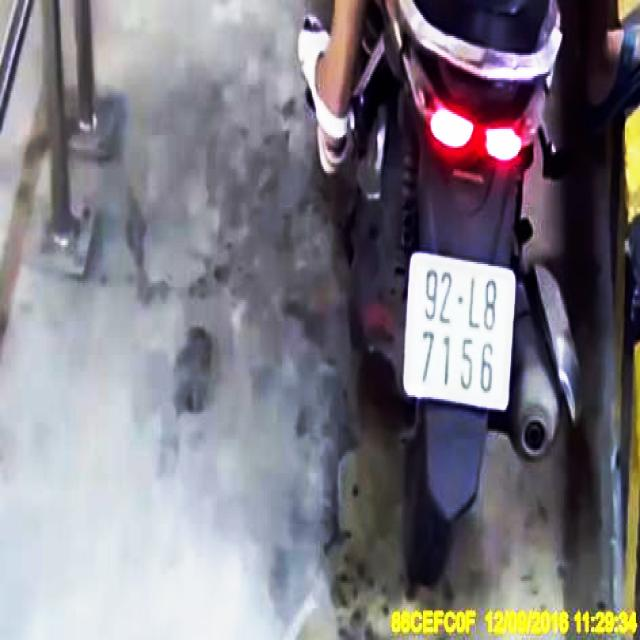license_plate: (407, 257, 516, 409)
